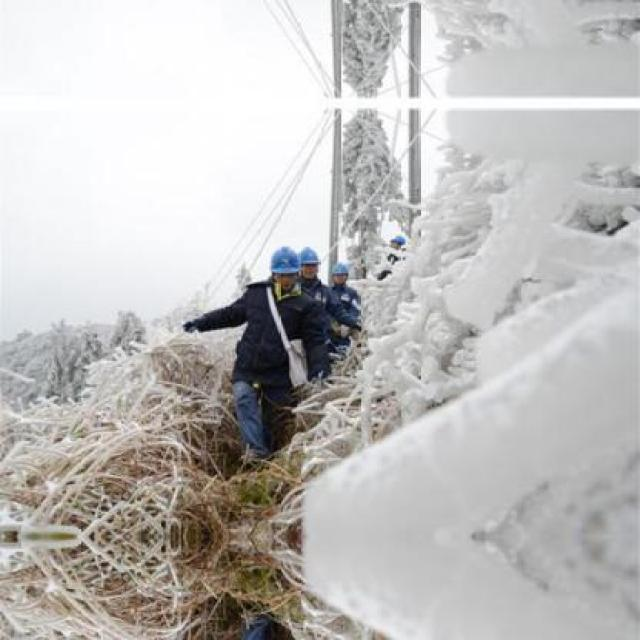helmet: (269, 244, 300, 291), (298, 243, 320, 280), (328, 258, 352, 289), (383, 232, 411, 254)
